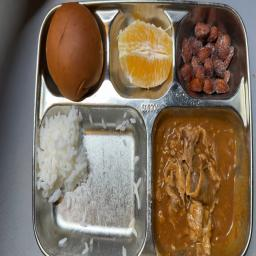100_bread: (45, 5, 106, 95)
100_nuts: (177, 16, 238, 97)
100_orange: (113, 15, 175, 90)
25_rice: (39, 109, 141, 248)
75_beef: (156, 116, 238, 243)
